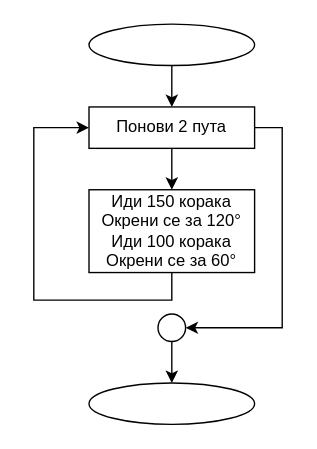
Some shapes in this 317 by 449 pixel diagram are drawn without their labels. The shapes that lost their labels are listed below. From the top down, each one's box as (x1, y1, x2, y2) in pixels, then its label:
(88, 23, 255, 66): Почетак
(88, 382, 255, 424): Крај
